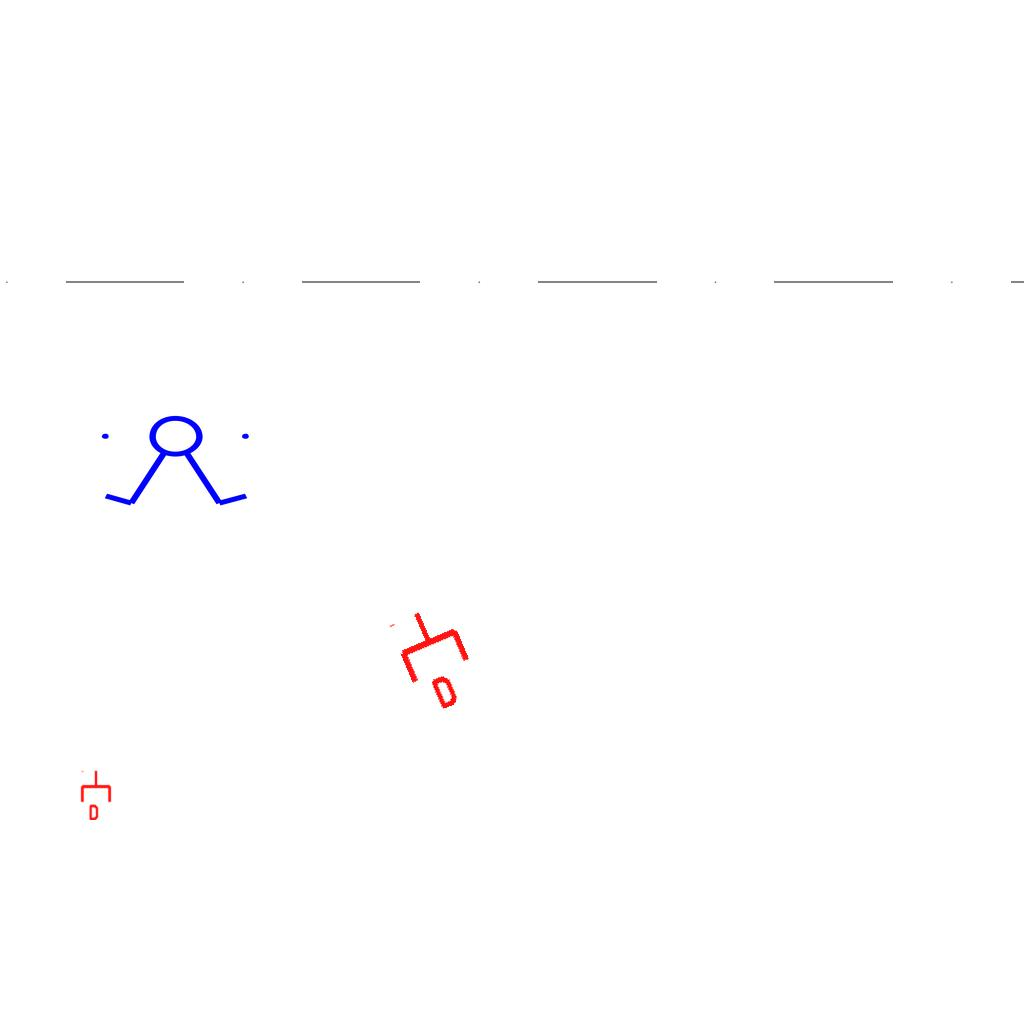Datenanschluss_einfach: (384, 598, 487, 718), (79, 770, 113, 820)
Serienschalter: (93, 414, 261, 510)
